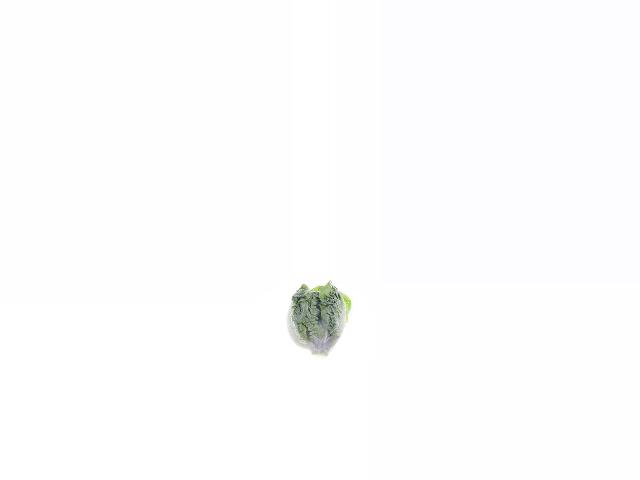lettuce: (284, 282, 354, 356)
